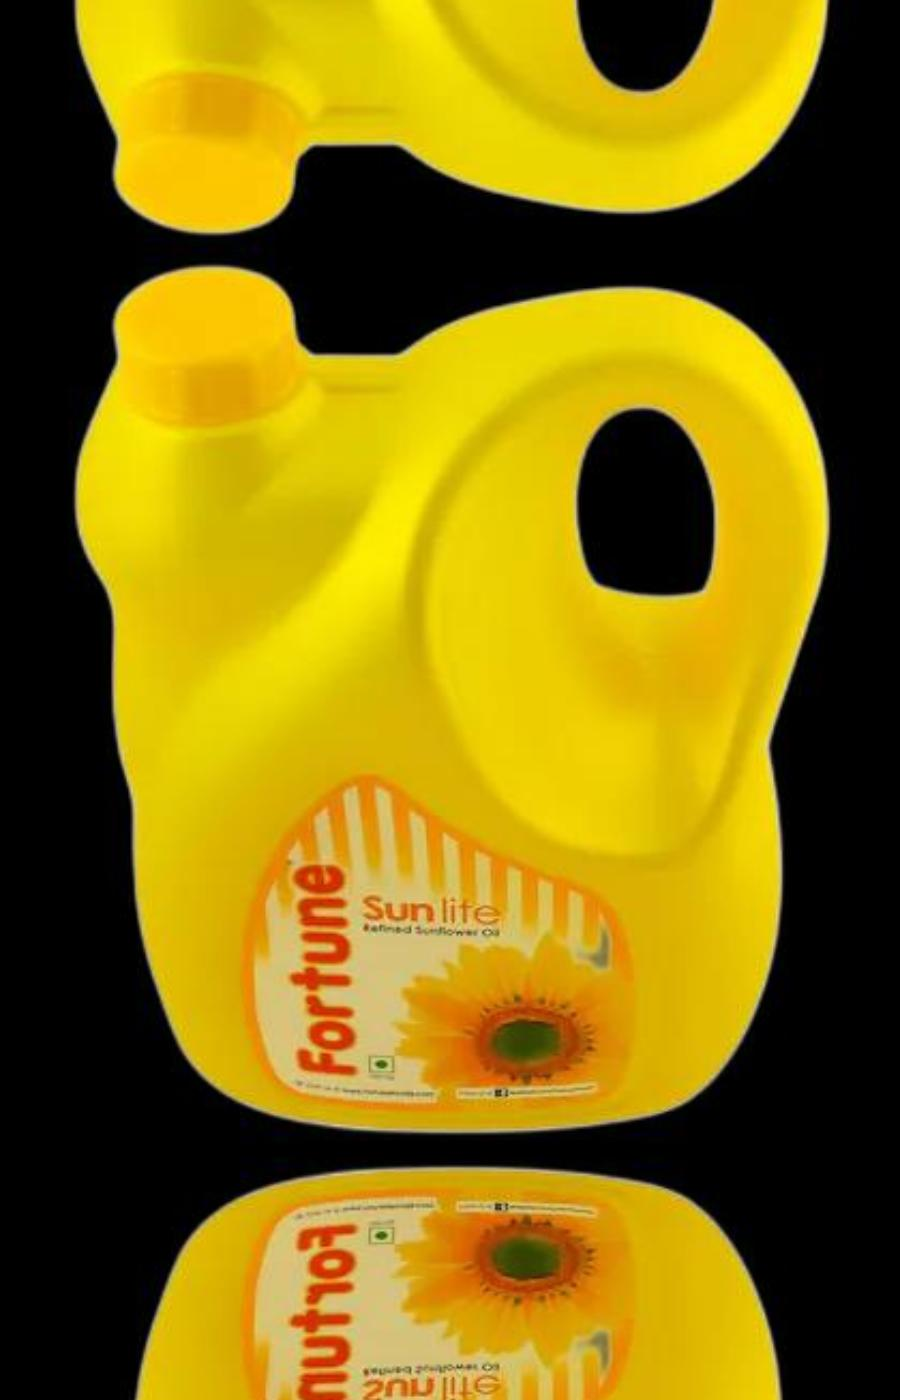Fortune Sunlite Refined Sunflower Oil 5 L: (66, 271, 838, 1137), (66, 1163, 837, 1400), (66, 0, 837, 229)
